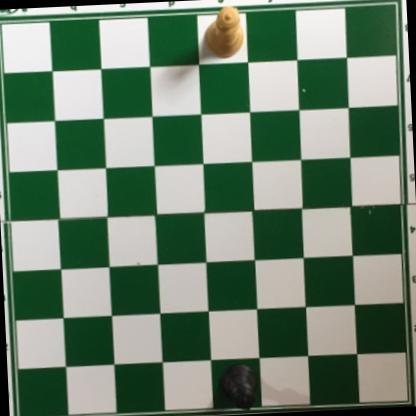black-queen: (217, 360, 259, 413)
white-queen: (201, 3, 245, 60)
